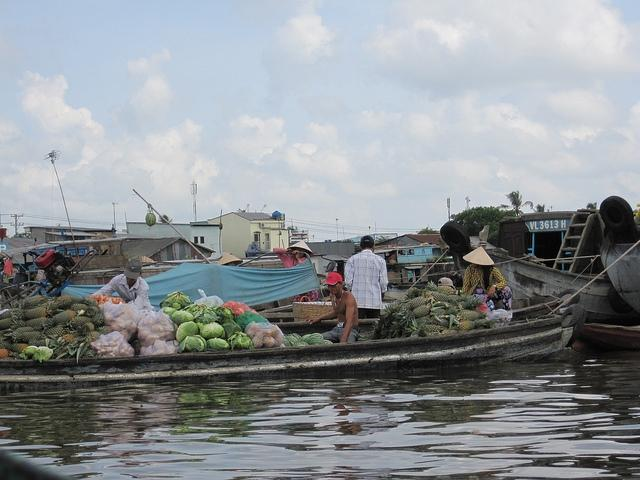pineapple: (42, 310, 75, 329), (398, 296, 426, 314), (9, 317, 46, 330), (10, 308, 48, 320), (72, 314, 104, 328), (0, 341, 29, 354), (12, 331, 41, 343), (44, 328, 78, 338), (458, 319, 486, 331), (432, 294, 459, 306), (20, 295, 43, 309), (0, 308, 22, 320), (50, 300, 70, 312), (79, 322, 95, 336), (15, 326, 43, 334), (407, 288, 423, 300), (423, 324, 447, 332), (460, 312, 478, 322), (0, 318, 13, 330), (85, 306, 100, 316), (434, 286, 452, 294), (70, 304, 88, 312), (456, 295, 472, 303), (84, 297, 98, 305), (441, 330, 468, 334), (457, 309, 473, 315), (418, 316, 430, 324)
watermelon: (284, 336, 300, 346), (306, 336, 322, 346), (308, 333, 324, 340), (316, 340, 332, 344), (294, 342, 309, 346), (292, 333, 302, 339)
